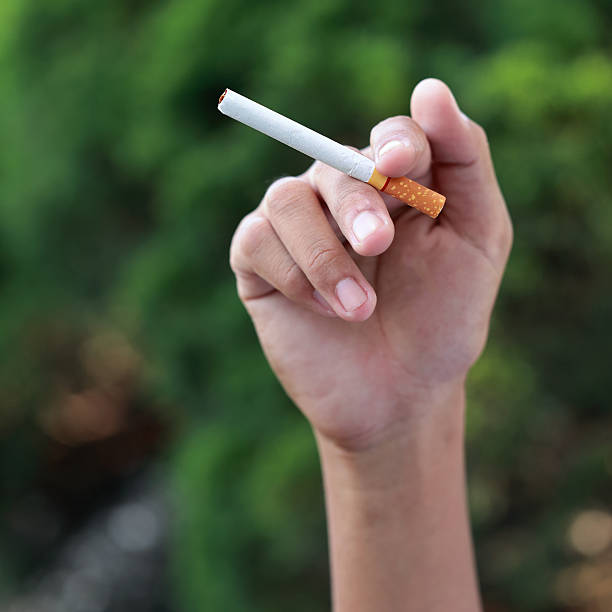cigarette: (217, 88, 447, 219)
